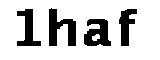1: (12, 7, 42, 50)
a: (84, 16, 111, 48)
f: (116, 5, 141, 49)
h: (48, 3, 78, 50)
